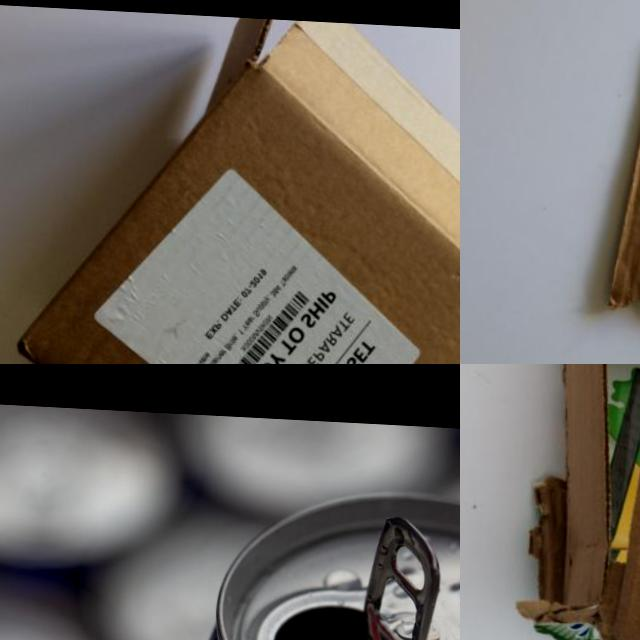aba de lata: (354, 512, 445, 640)
lata: (189, 481, 460, 640)
papelão: (8, 6, 460, 364), (516, 364, 640, 640)
